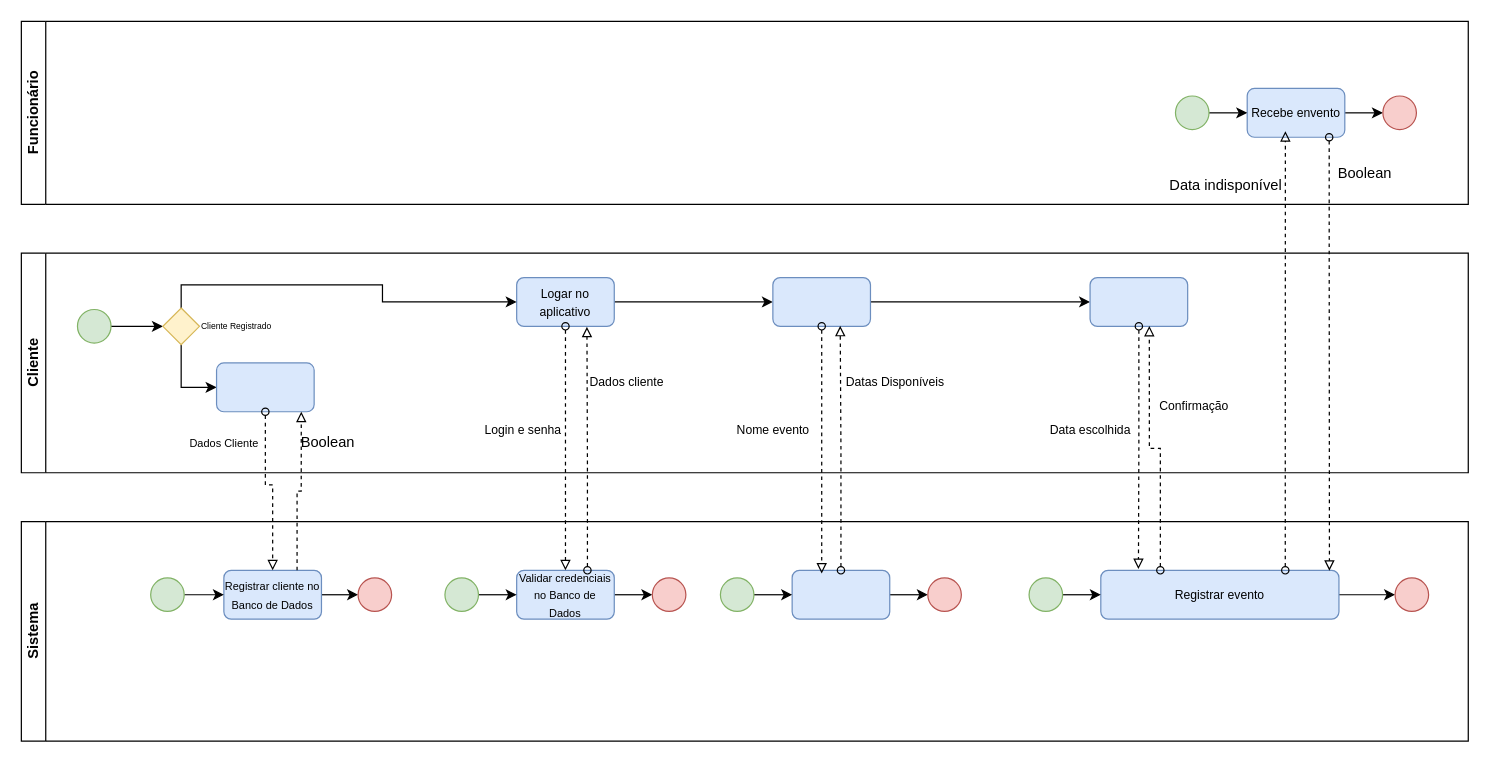
This 1490x763 diagram has some shape labels left out. The shapes that lost their labels are listed below. From the top down, each one's centre as x and y in pixels, then its label:
At point (821, 301): "Verifica agenda de eventos".
At point (1138, 301): "Agendar evento".
At point (264, 387): "Registrar no aplicativo".
At point (840, 594): "Obter datas disponíveis".
